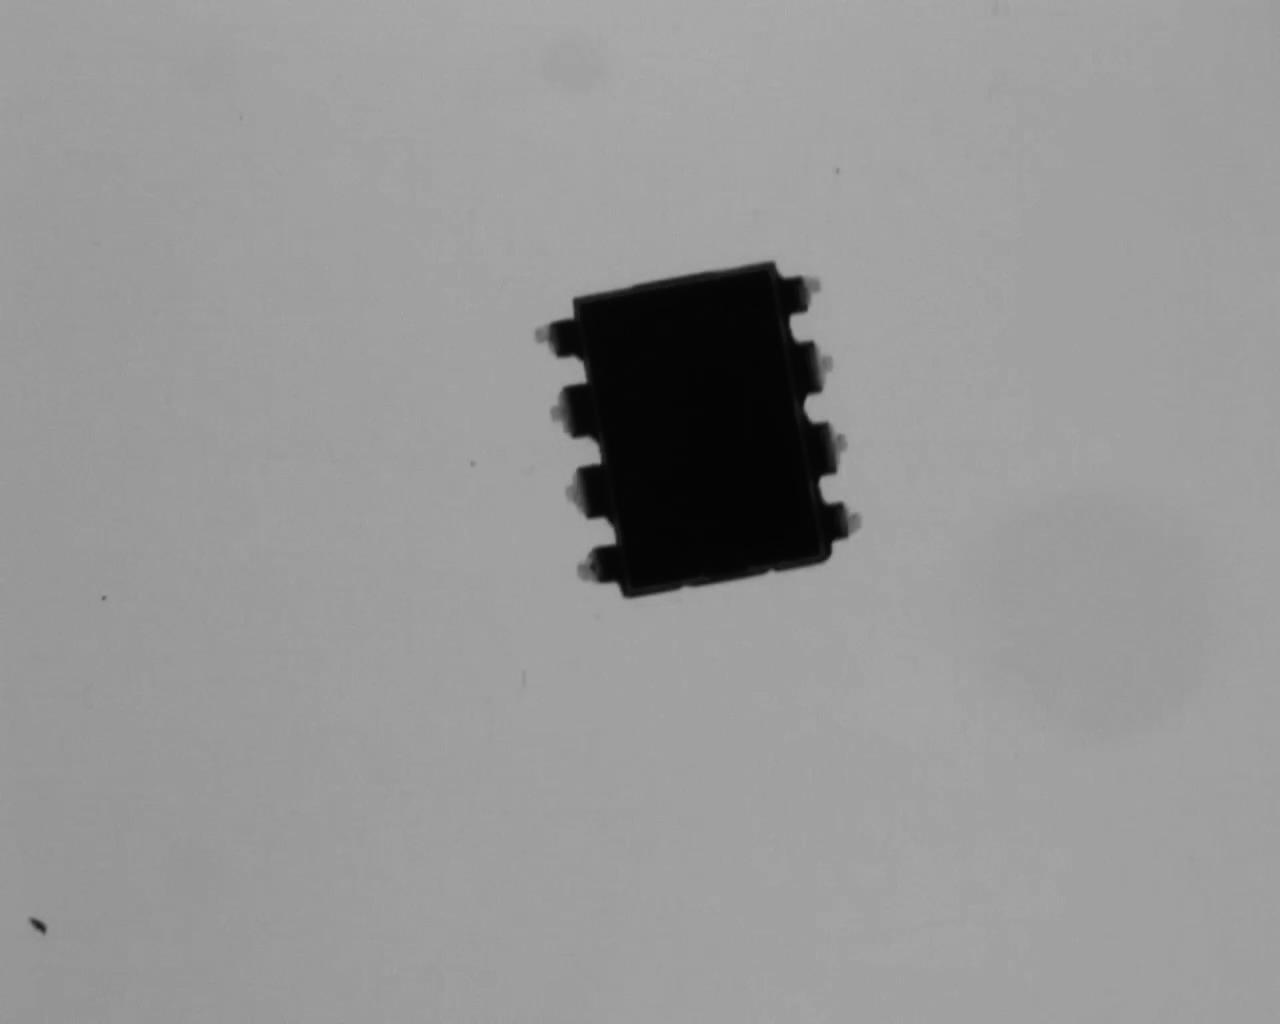Leg: (786, 333, 847, 401), (559, 462, 619, 527), (546, 380, 602, 446), (572, 537, 627, 596), (804, 416, 853, 479), (816, 494, 870, 548), (529, 315, 586, 363), (781, 270, 831, 319)
